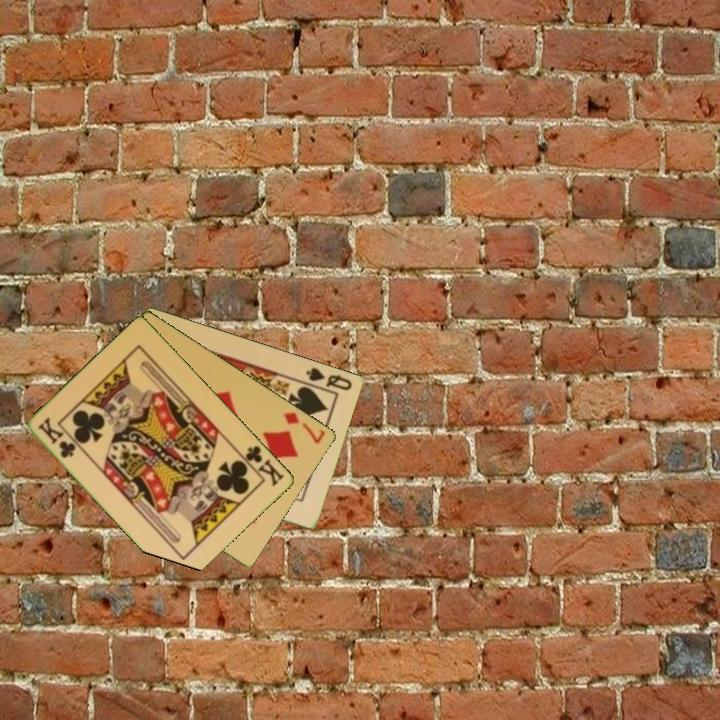7d: (280, 408, 329, 447)
Kc: (237, 442, 288, 490), (35, 414, 79, 461)
Qs: (303, 363, 355, 393)
